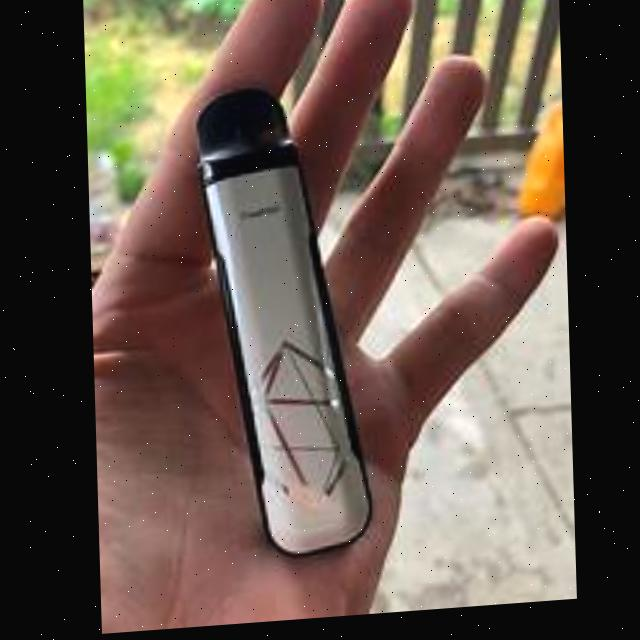vape: (191, 86, 373, 570)
